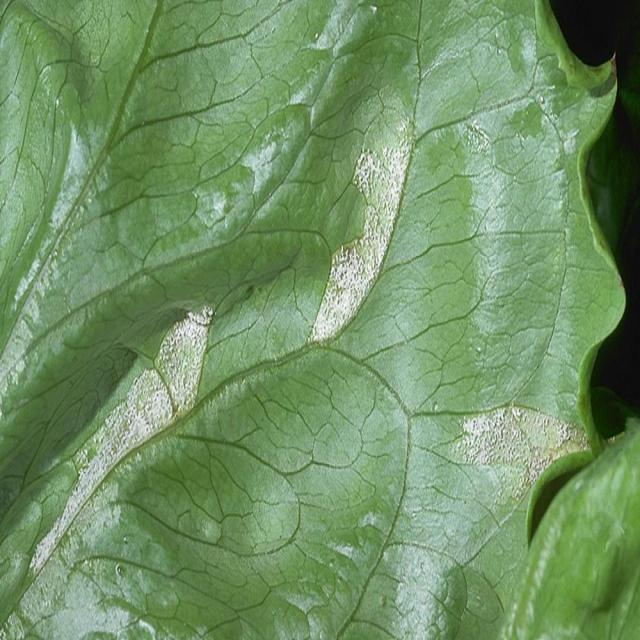Powdery_mildew_on_lettuce: (20, 302, 225, 607), (301, 110, 425, 357), (442, 386, 593, 530)
